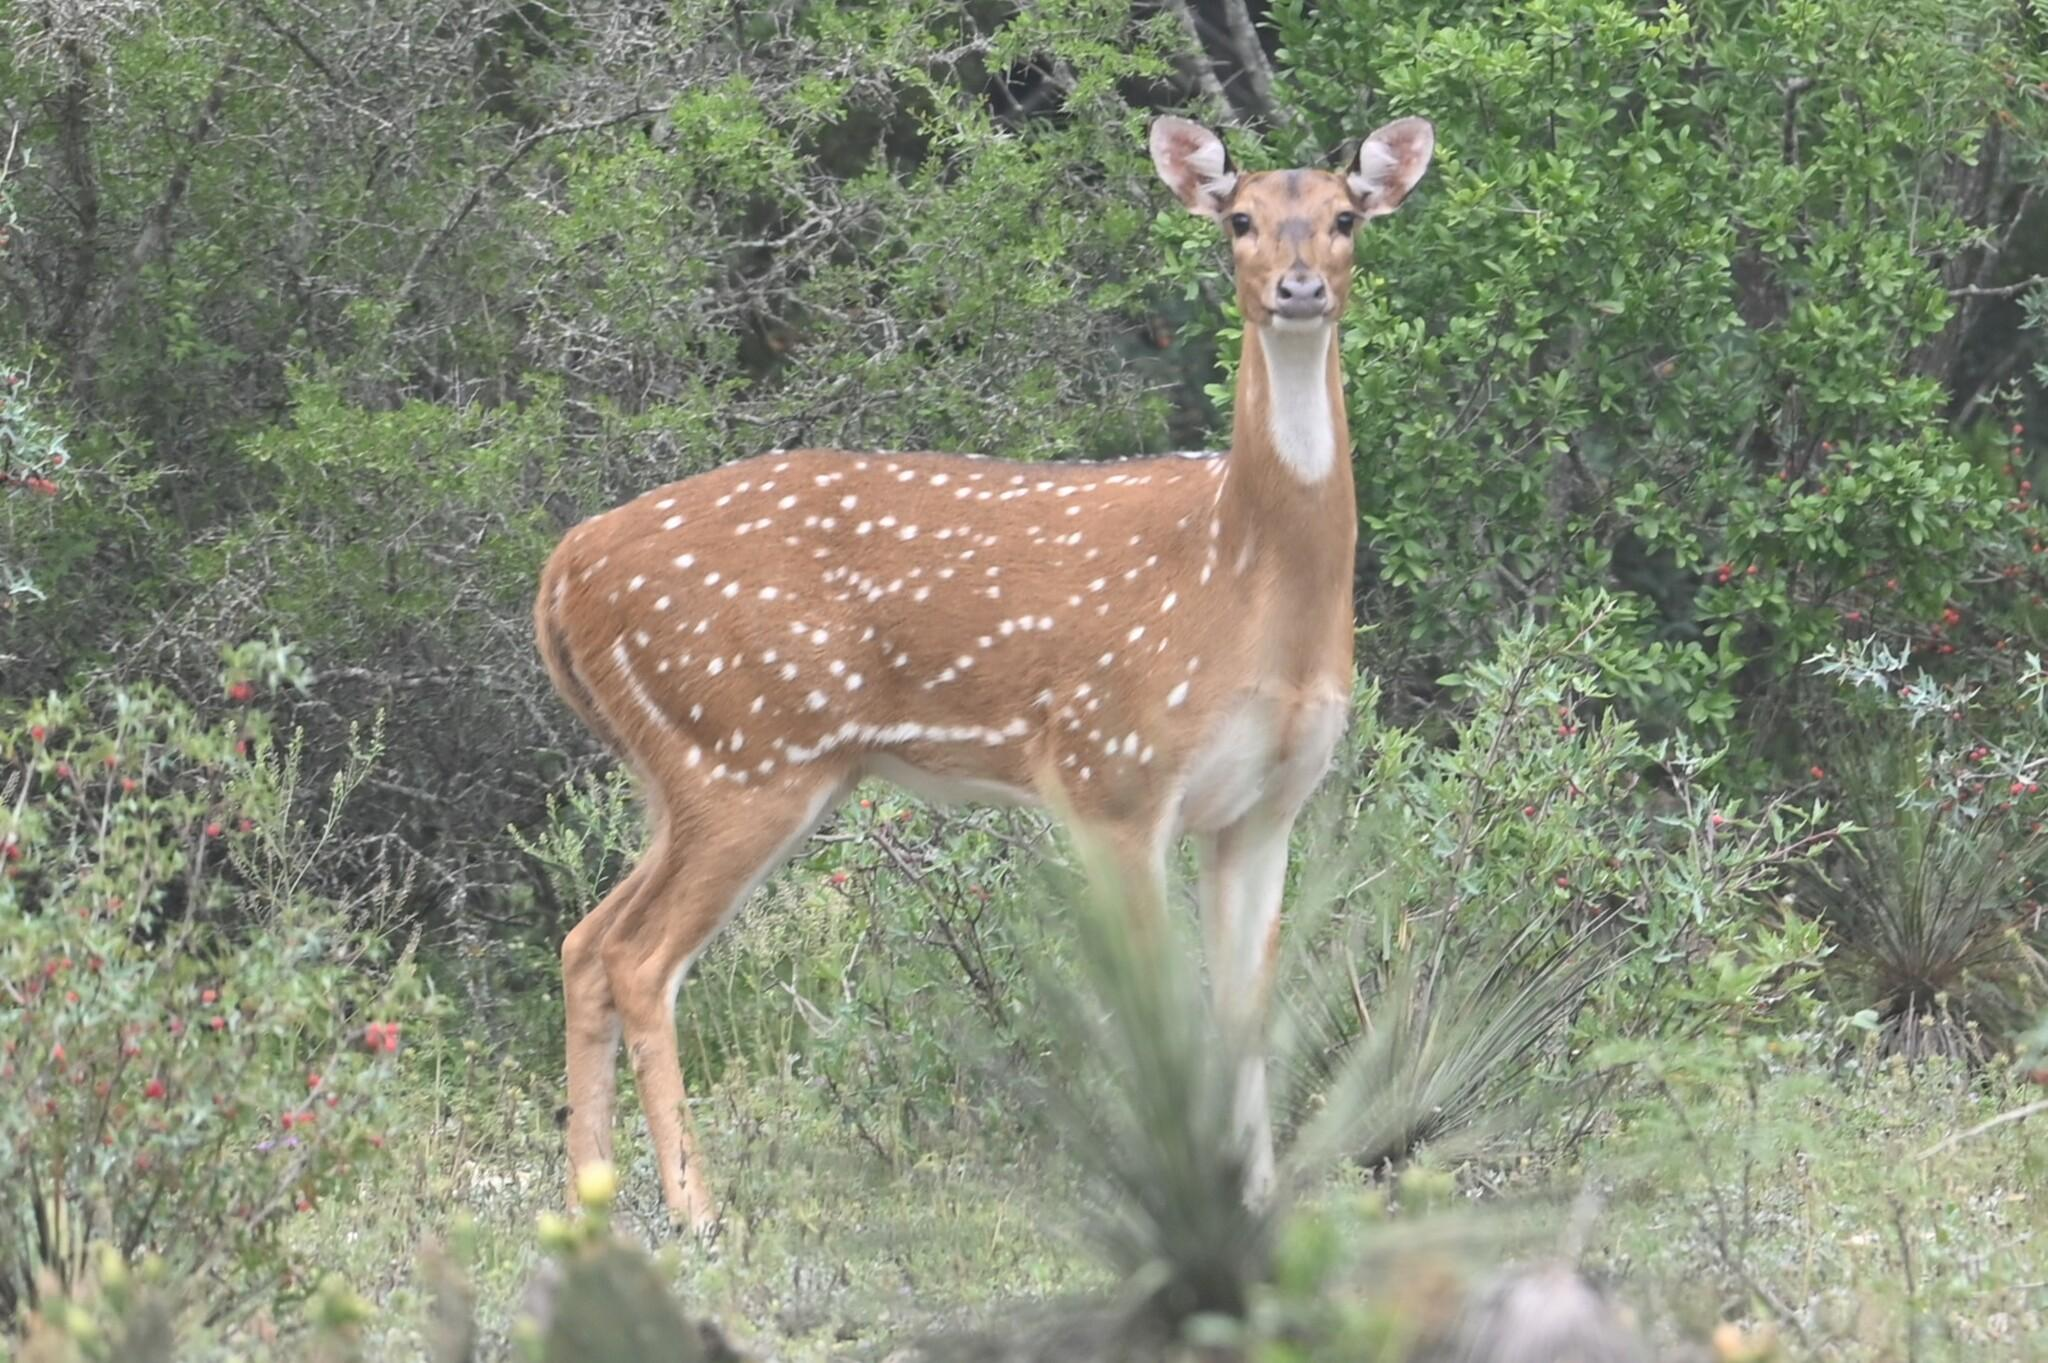Deer: (534, 117, 1434, 1222)
